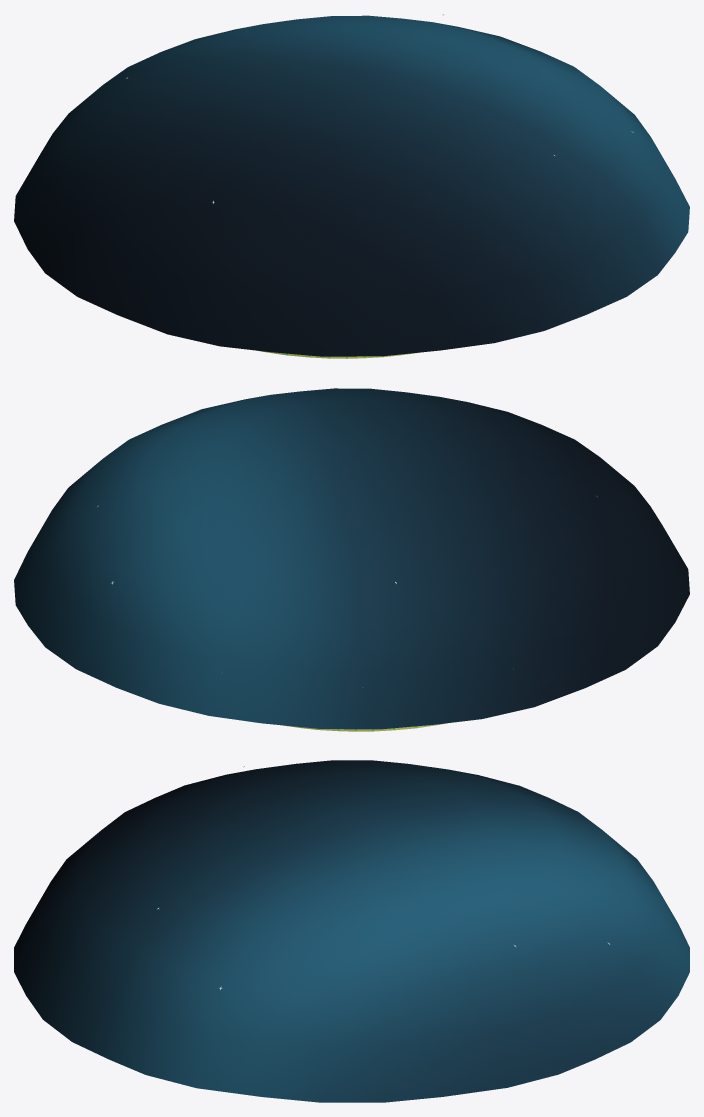
Rendered from Steven Universe - Stronger then you_Edited.fbx.
3 views of the same model, one above another, from view 1: azimuth 30°, elevation 25°; view 2: azimuth 150°, elevation 25°; view 3: azimuth 270°, elevation 25° (orthographic).
Parts seen in each view (by area): view 1: Steven Universe - Stronger then you; view 2: Steven Universe - Stronger then you; view 3: Steven Universe - Stronger then you.
Part boxes in pixels (x1,y1,x2,y2): Steven Universe - Stronger then you: [14, 14, 689, 358]; Steven Universe - Stronger then you: [14, 388, 689, 731]; Steven Universe - Stronger then you: [14, 760, 689, 1102].
Bounding box in the file's own units: 347859 × 97890 × 348007.
